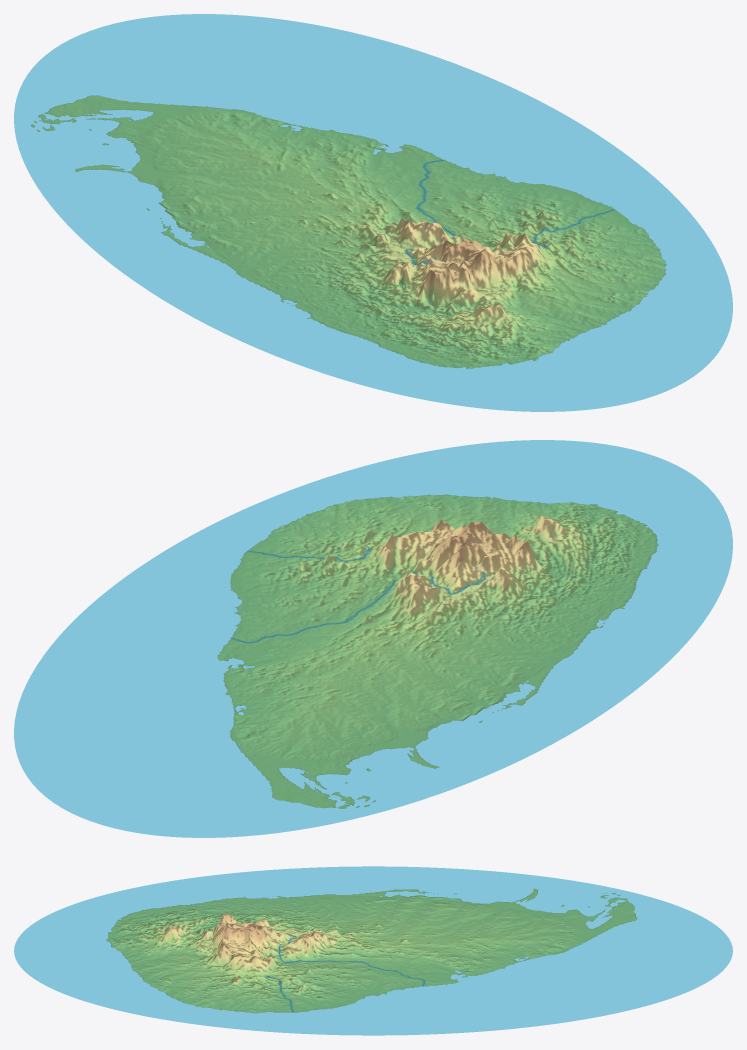
The model's file is LKA-terrain.glb.
The picture shows the model from 3 angles, top to bottom: view 1: azimuth 30°, elevation 25°; view 2: azimuth 150°, elevation 25°; view 3: azimuth 270°, elevation 25°; orthographic projection. The views are drawn at different scales.
Parts seen in each view (by area): view 1: Relevo com hidrografia; view 2: Relevo com hidrografia; view 3: Relevo com hidrografia.
Part boxes in pixels (box(x1,y1,x2,y2)): Relevo com hidrografia: box(14, 14, 732, 411); Relevo com hidrografia: box(14, 440, 732, 837); Relevo com hidrografia: box(14, 866, 732, 1035).
Bounding box in the file's own units: 1.21 × 0.0895 × 2.17.
Materials: 2 (1 with a texture image).
